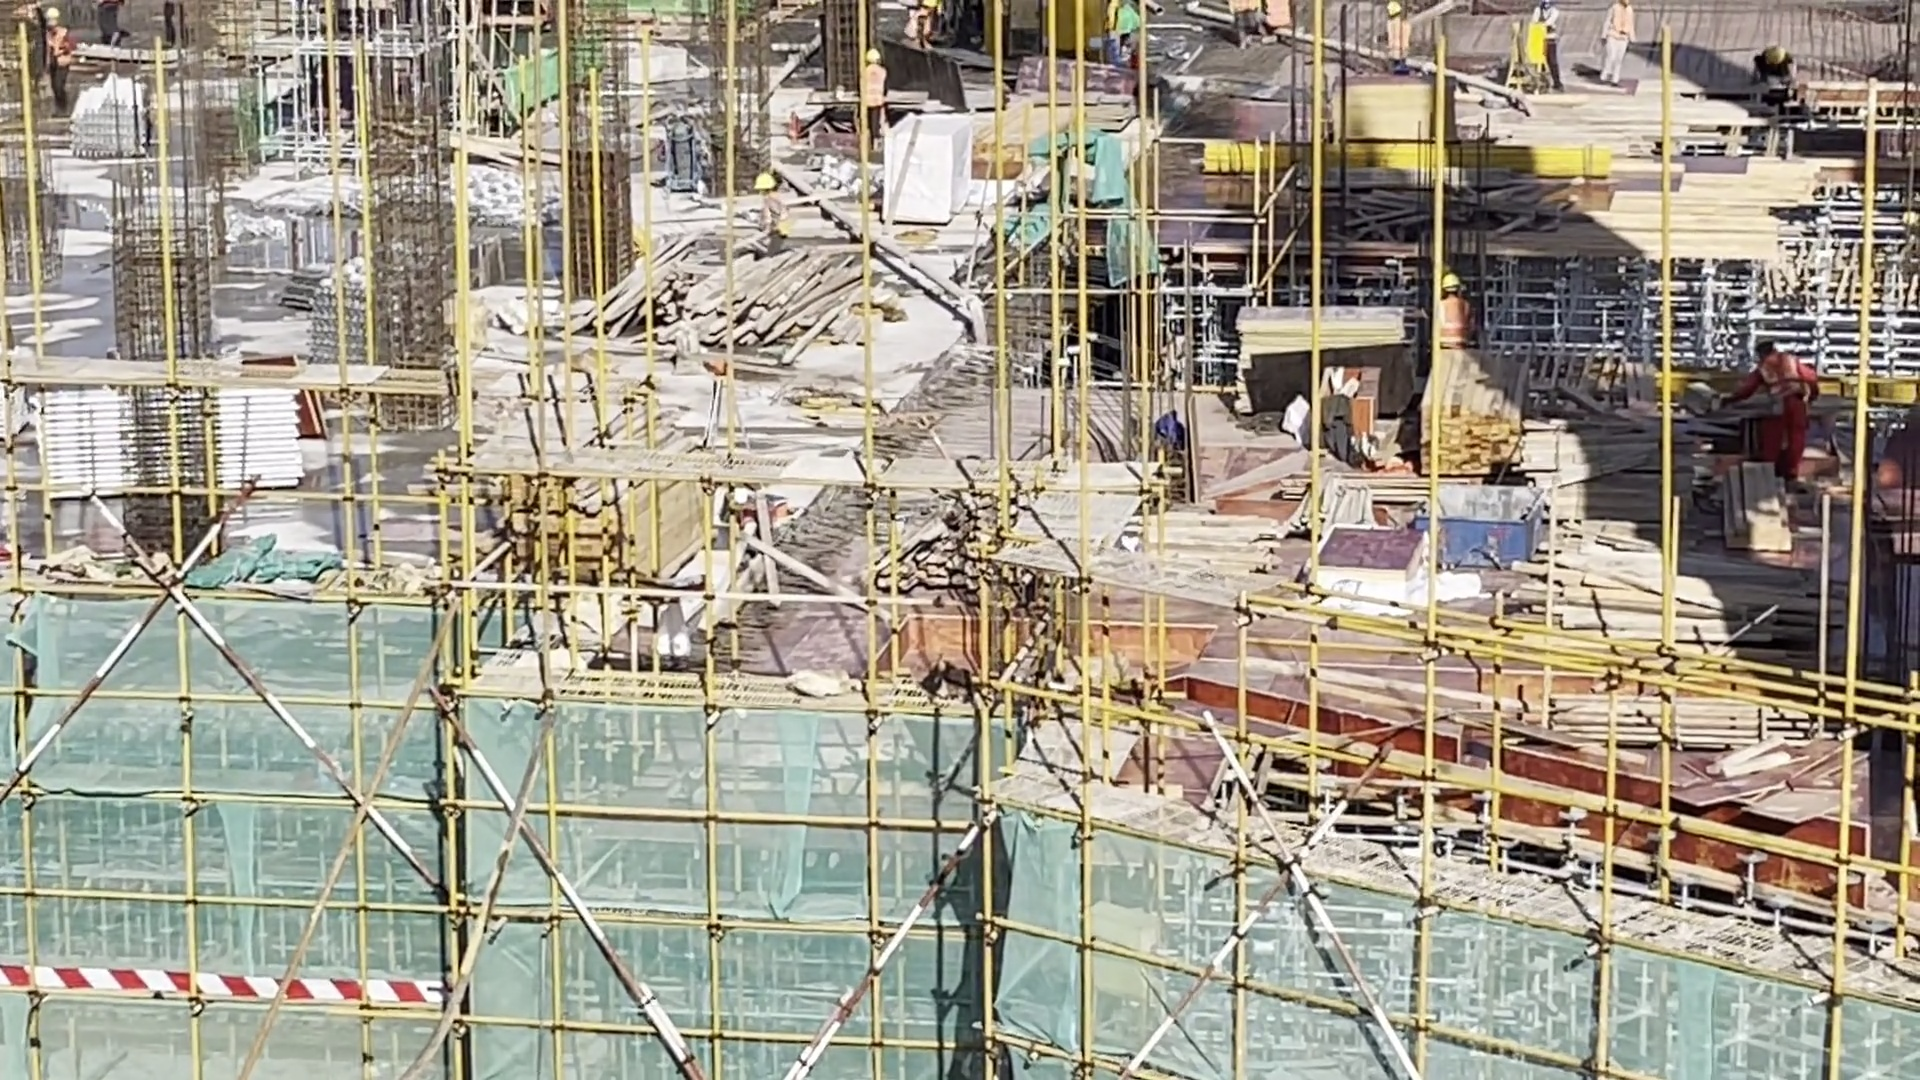helmet: (1747, 332, 1776, 362), (1437, 268, 1468, 295), (748, 170, 776, 199), (862, 46, 885, 73), (1765, 41, 1786, 64), (1381, 1, 1407, 13), (924, 1, 943, 9)
hopper: (1426, 464, 1564, 571)
person: (1670, 327, 1823, 494), (709, 481, 794, 550), (37, 11, 80, 108), (1529, 3, 1570, 94), (855, 52, 892, 152), (1600, 1, 1637, 90), (1442, 271, 1484, 348), (1749, 49, 1804, 95), (1385, 1, 1419, 75), (903, 1, 942, 47)
scaffold: (33, 382, 300, 500)
vest: (1760, 361, 1816, 425), (1443, 296, 1473, 336), (1532, 8, 1562, 48), (859, 65, 885, 107), (1388, 19, 1415, 58), (903, 8, 932, 42), (1606, 6, 1632, 43)
wood: (1460, 549, 1862, 775), (473, 383, 685, 583), (603, 229, 878, 367), (1423, 353, 1523, 464)
